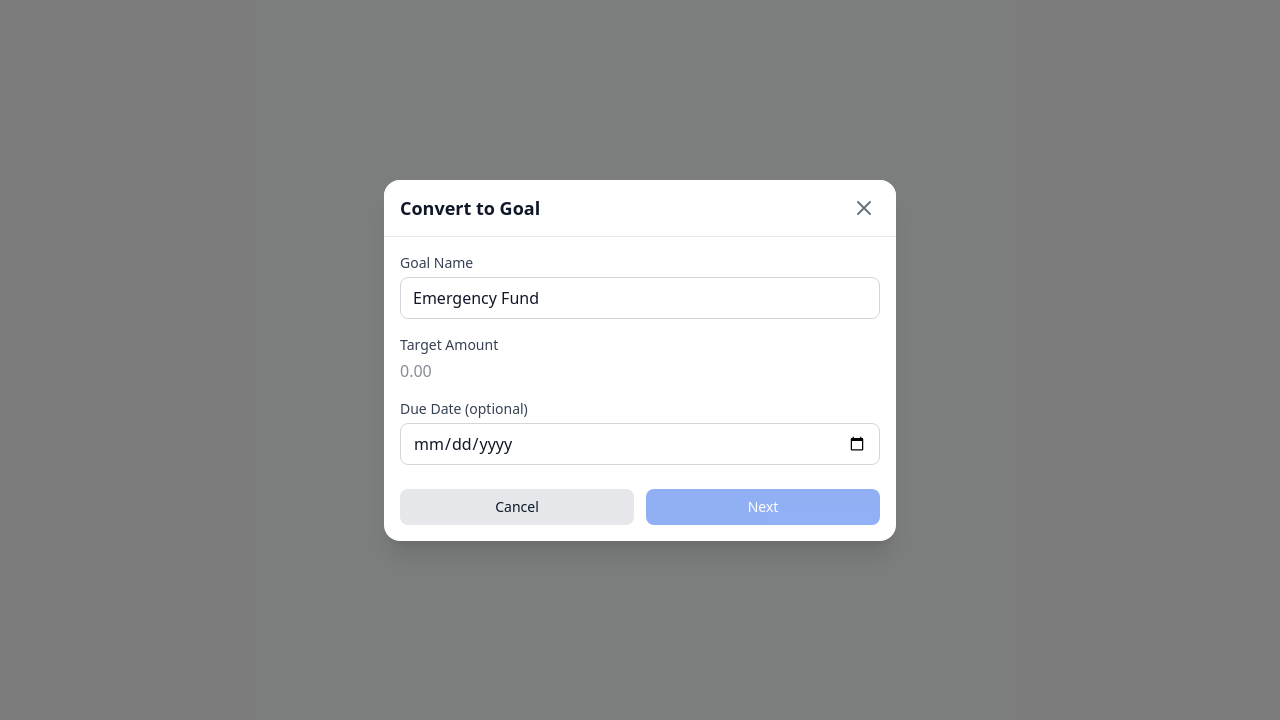
ConvertToGoalWizard › shows guidance and disables Next when no destination wallets exist
Type "5000" into the number field with id "target-amount" at (516, 370), box [400,358,631,382]
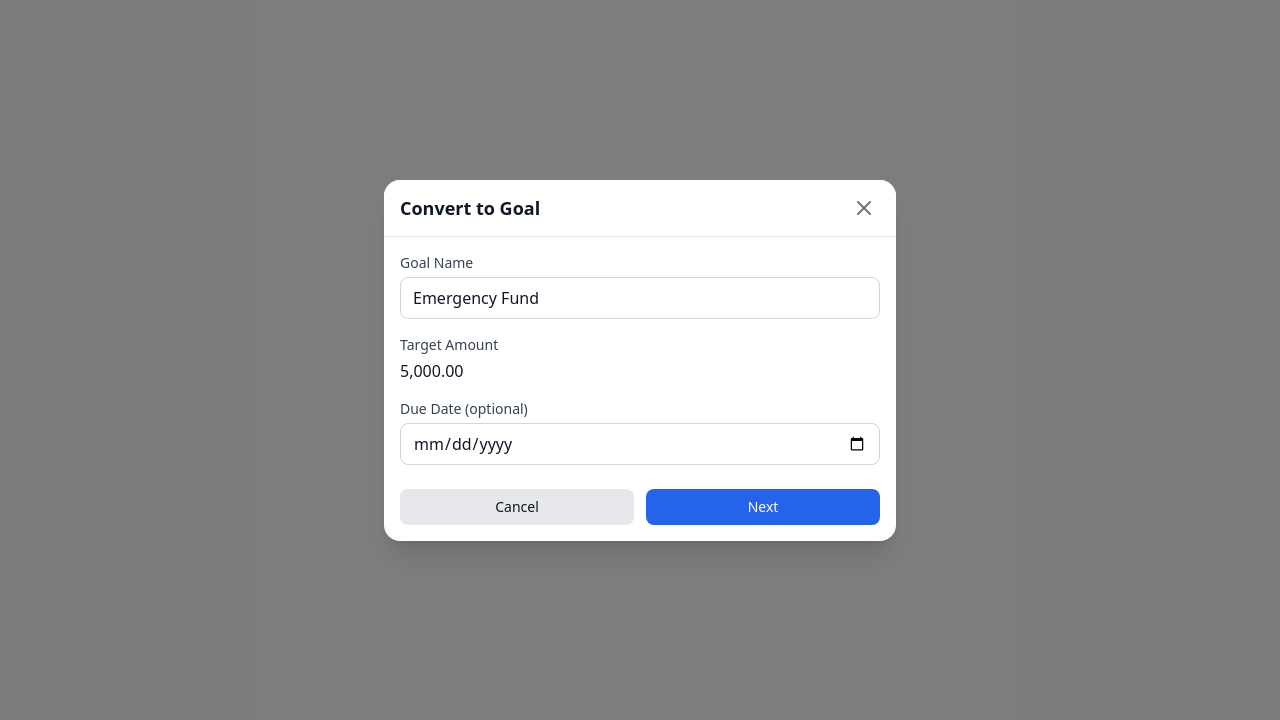
Click the button "Next" at (763, 506), box [646,488,880,524]
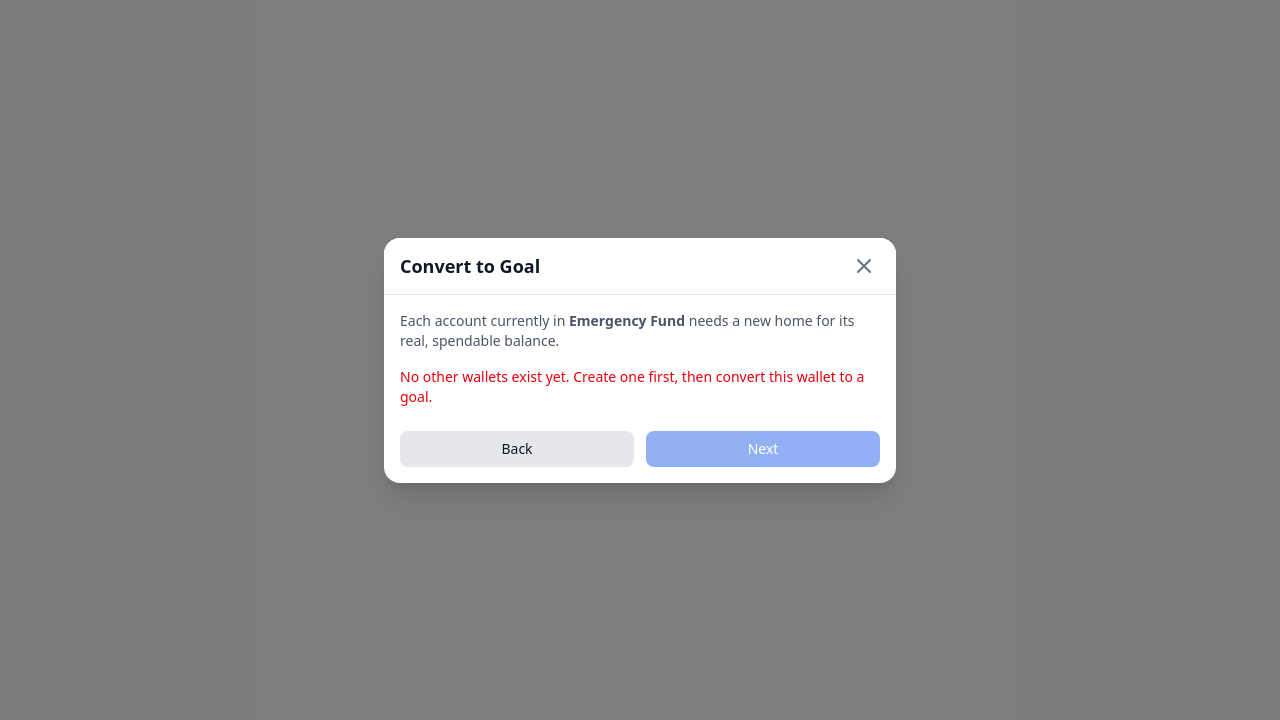
Result: the text "No other wallets exist yet" is shown at [400,366,864,406]
Result: the button "Next" is disabled at [646,430,880,466]
